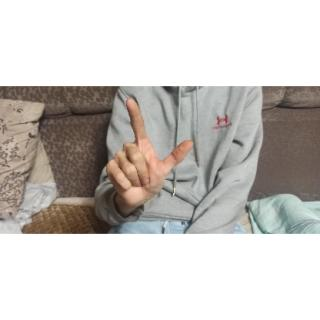LAAM: (101, 96, 198, 212)
